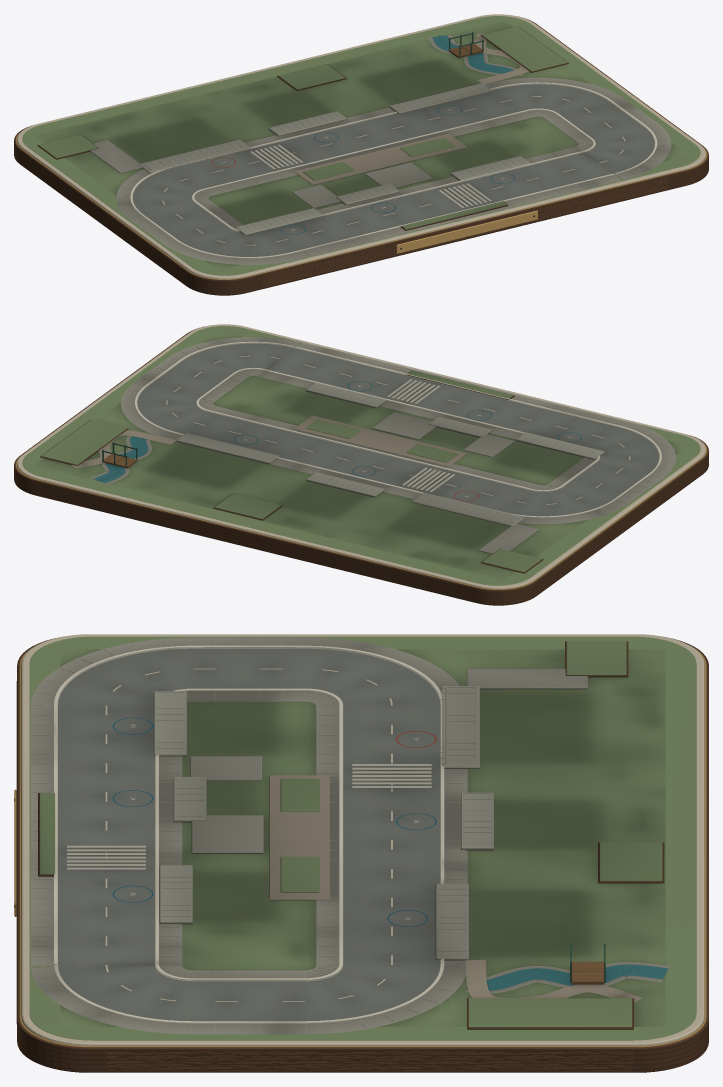
File: town-base.glb
The picture shows the model from 3 angles, top to bottom: view 1: azimuth 30°, elevation 25°; view 2: azimuth 150°, elevation 25°; view 3: azimuth 270°, elevation 25°; orthographic projection. The views are drawn at different scales.
Visible parts, largest first — view 1: town_base_matte, town_base_metal; view 2: town_base_matte; view 3: town_base_matte.
Boxes of the visible parts, x1,y1,x2,y2 form: town_base_matte: [14, 14, 708, 295]; town_base_metal: [396, 210, 537, 253]; town_base_matte: [14, 324, 708, 605]; town_base_matte: [14, 634, 708, 1072].
Size of the model in its own units: 34.01 by 2.11 by 24.11.
